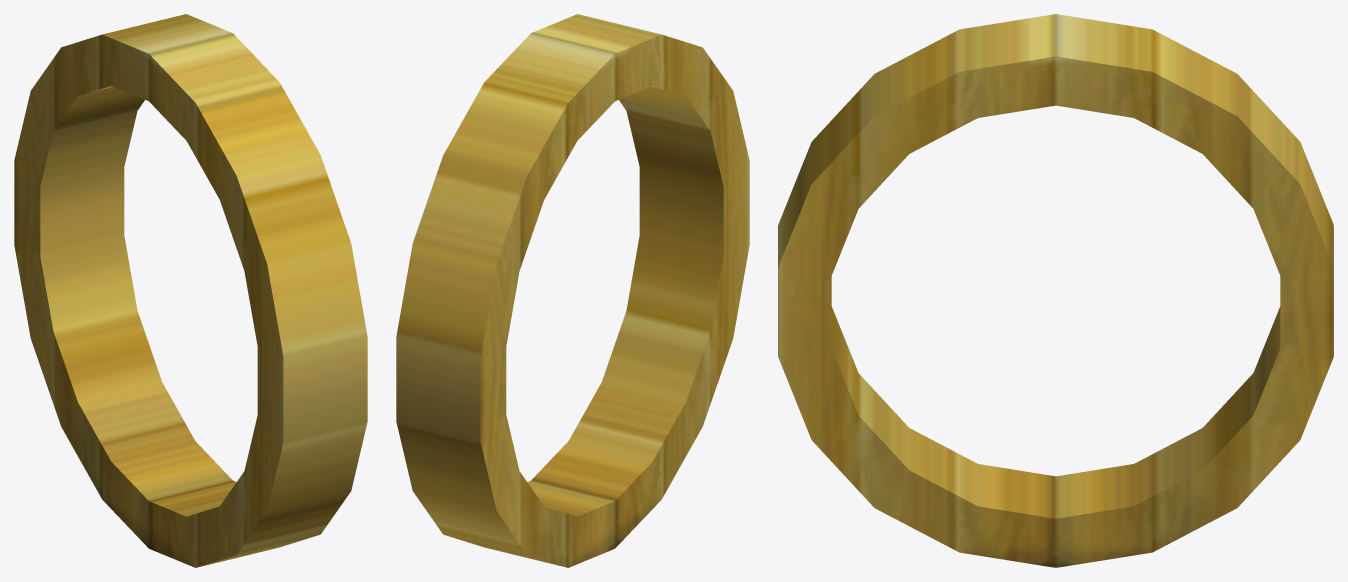
The model's file is HTOWN01_MILLDOORWAY03.fbx.
3 views of the same model, side by side, from view 1: azimuth 30°, elevation 25°; view 2: azimuth 150°, elevation 25°; view 3: azimuth 270°, elevation 25° (orthographic). The views are drawn at different scales.
Parts seen in each view (by area): view 1: HTOWN01_MILLDOORWAY03; view 2: HTOWN01_MILLDOORWAY03; view 3: HTOWN01_MILLDOORWAY03.
Part boxes in pixels (<box>): HTOWN01_MILLDOORWAY03: <box>14,14,367,567</box>; HTOWN01_MILLDOORWAY03: <box>396,14,749,567</box>; HTOWN01_MILLDOORWAY03: <box>778,14,1333,567</box>.
Size of the model in its own units: 5362 by 30150 by 29692.
Materials: 1 (1 with a texture image).
